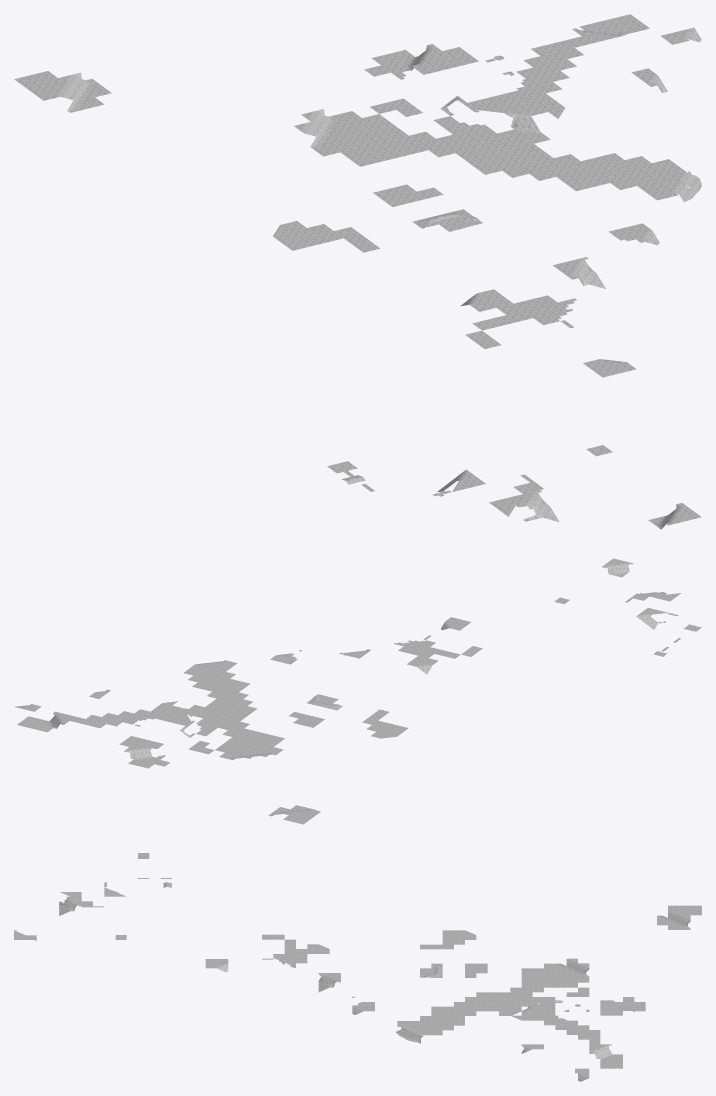
The picture shows the model from 3 angles, top to bottom: view 1: azimuth 30°, elevation 25°; view 2: azimuth 150°, elevation 25°; view 3: azimuth 270°, elevation 25°; orthographic projection. The views are drawn at different scales.
Parts seen in each view (by area): view 1: n0_lr0_agg_merge_mod_radiant_base_angled_000_0.meshset_0; view 2: n0_lr0_agg_merge_mod_radiant_base_angled_000_0.meshset_0; view 3: n0_lr0_agg_merge_mod_radiant_base_angled_000_0.meshset_0.
Part boxes in pixels (bbox=[...]): n0_lr0_agg_merge_mod_radiant_base_angled_000_0.meshset_0: bbox=[14, 14, 701, 529]; n0_lr0_agg_merge_mod_radiant_base_angled_000_0.meshset_0: bbox=[15, 558, 701, 824]; n0_lr0_agg_merge_mod_radiant_base_angled_000_0.meshset_0: bbox=[14, 853, 701, 1081].
Size of the model in its own units: 286 by 13.11 by 397.
Materials: 1 (1 with a texture image).
